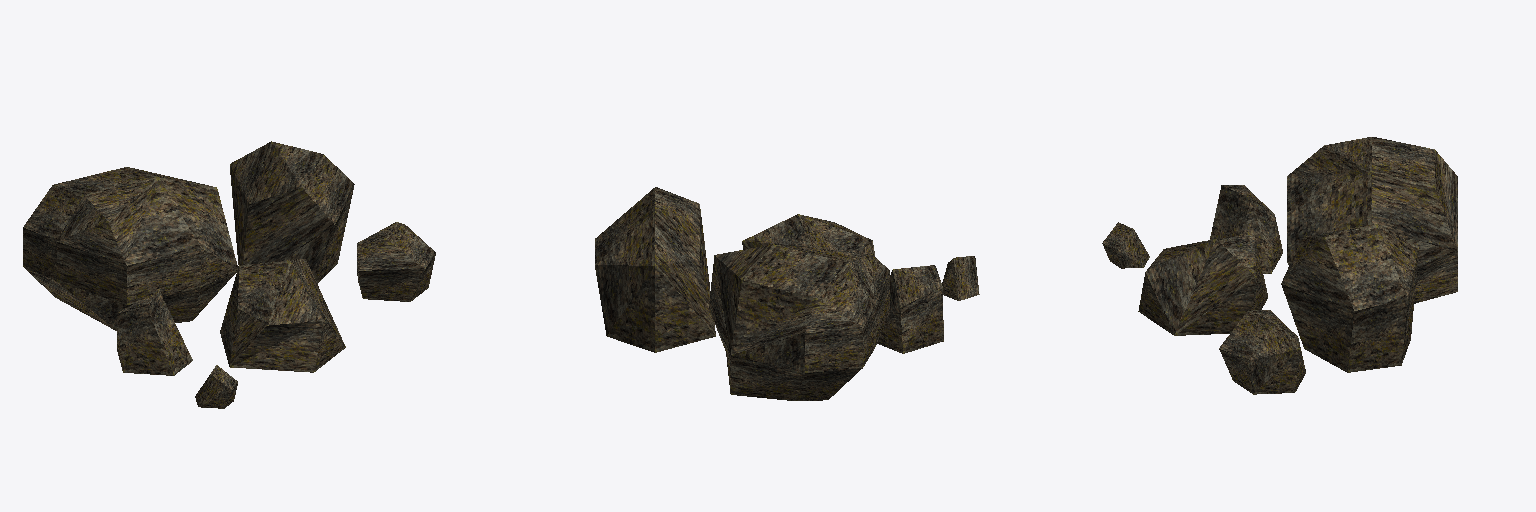
The picture shows the model from 3 angles: view 1: azimuth 30°, elevation 25°; view 2: azimuth 150°, elevation 25°; view 3: azimuth 270°, elevation 25°; orthographic projection.
Parts seen in each view (by area): view 1: Rocks1; view 2: Rocks1; view 3: Rocks1.
Boxes of the visible parts, x1,y1,x2,y2 form: Rocks1: [23, 141, 435, 408]; Rocks1: [595, 187, 979, 400]; Rocks1: [1102, 137, 1457, 394].
Bounding box in the file's own units: 15.98 × 5.91 × 15.
Materials: 1 (1 with a texture image).